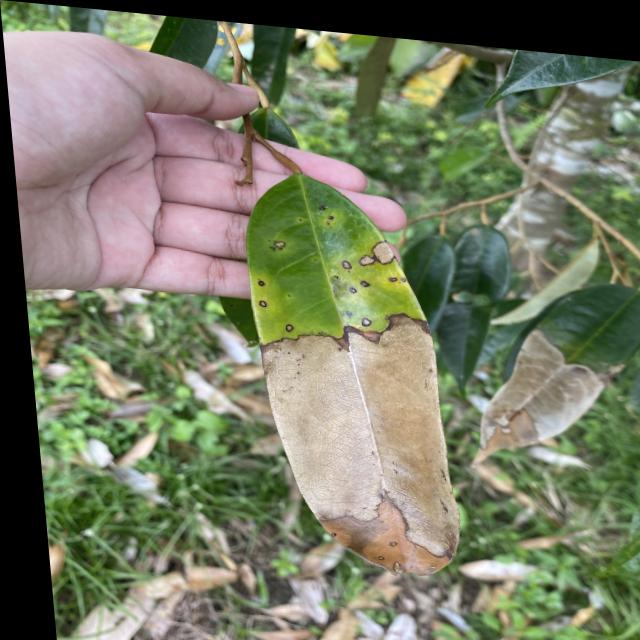Leaf Blight: (228, 298, 508, 612), (347, 226, 403, 266)
